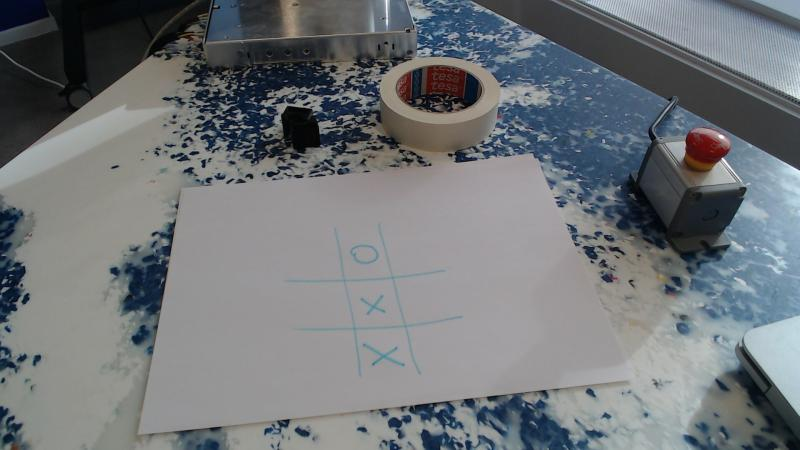O: (346, 237, 382, 268)
X: (364, 337, 406, 371), (360, 285, 390, 320)
grid: (287, 222, 477, 388)
